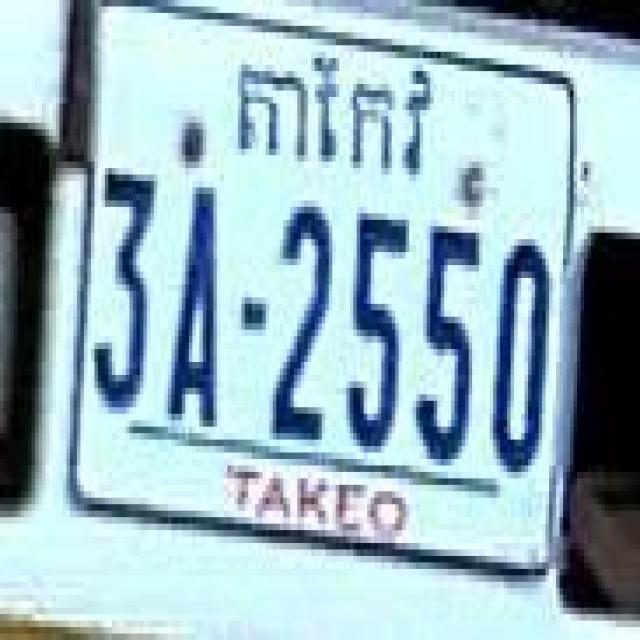Takeo: (228, 45, 436, 184)
